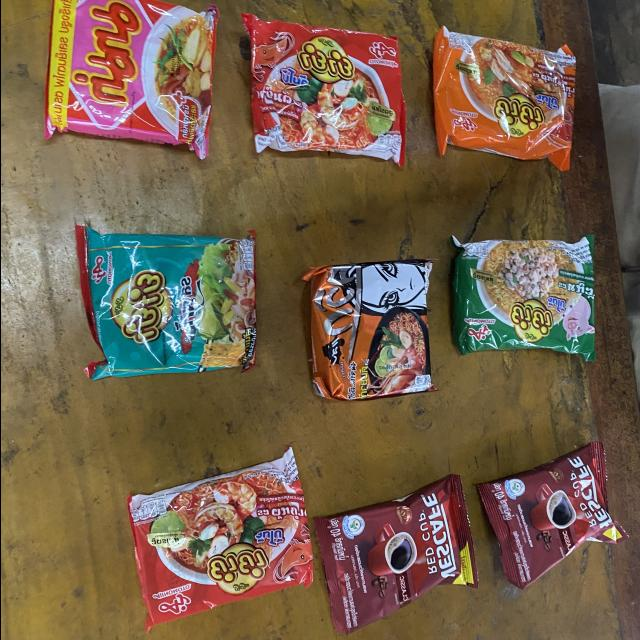plastik: (126, 448, 312, 630), (75, 226, 255, 380), (44, 0, 217, 159), (314, 475, 477, 634), (241, 14, 404, 166), (477, 443, 626, 588), (433, 28, 575, 170), (303, 259, 435, 400), (452, 235, 594, 361)
